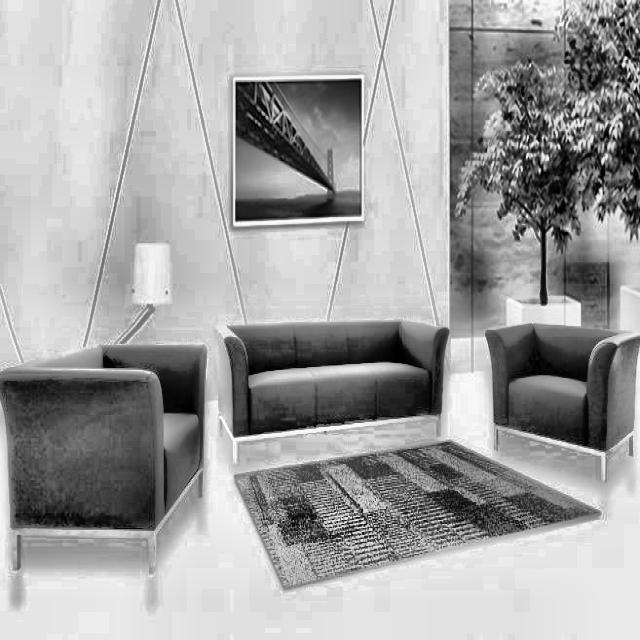sofa: (0, 343, 207, 573), (216, 318, 449, 469), (484, 320, 639, 482)
